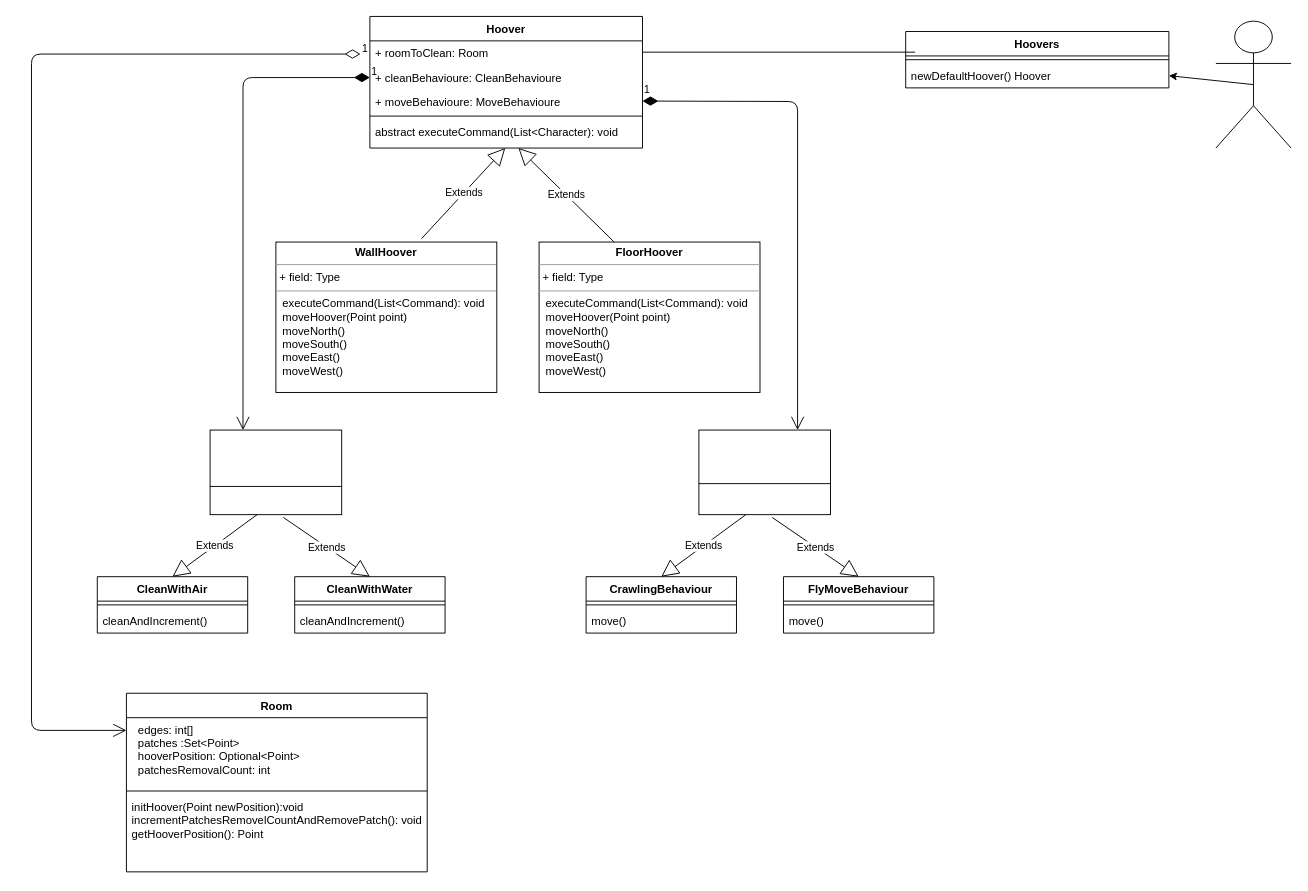
The diagram is 1308 pixels wide and 891 high, and some of its shapes have lost their labels. Here are the shapes that lost their labels. From the top down, the centre of each, then its label:
At (1253,84): "Actor".
At (275,472): "<<interface>> CleanBehaviour cleanAndIncrement()".
At (764,472): "<<interface>> MoveBehaviour move()".
